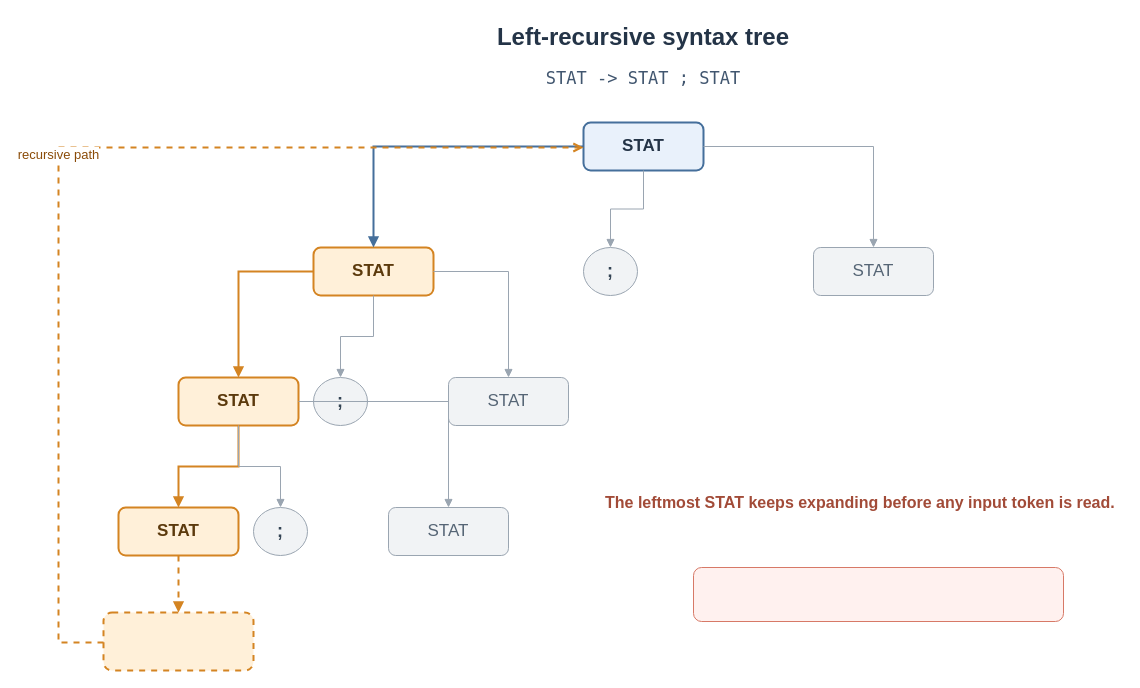
Image size: 1140x688. Some labels were removed from this diagram. The shapes that lost their labels are listed below. From the top down, each one's centre as x and y in pixels, then its label:
At pixel 878 594: "Input cursor stays here: no terminal has been matched yet.".
At pixel 178 641: "...\nexpand STAT again".
